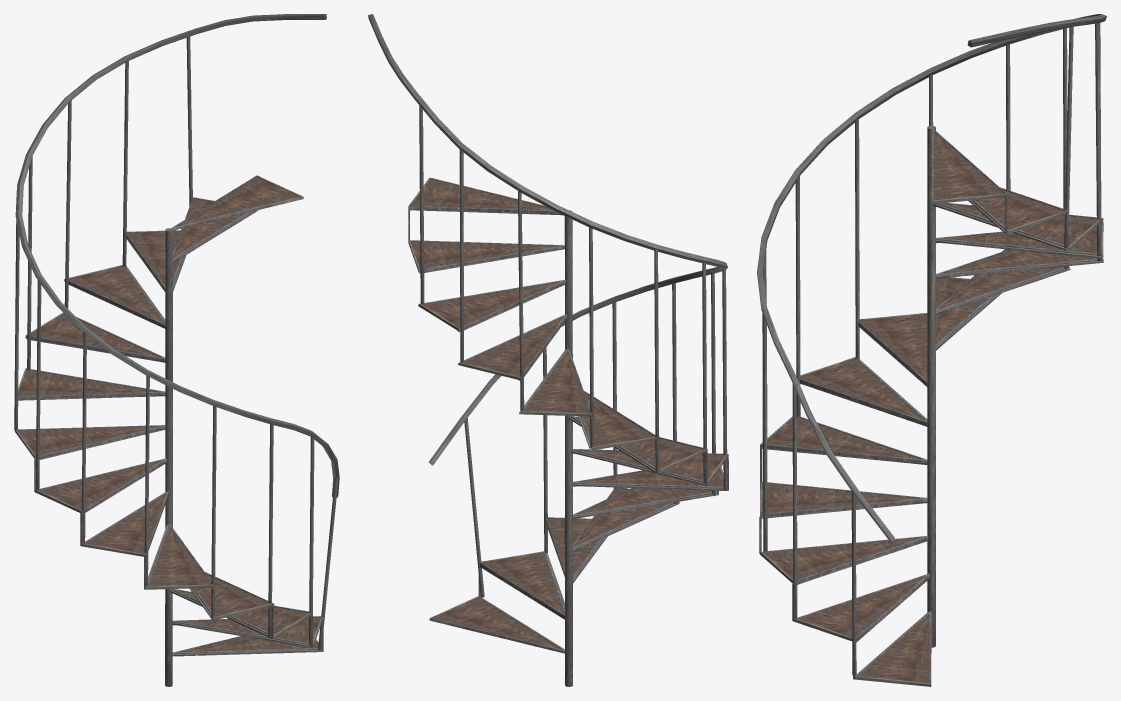
The model's file is uploads_files_2086085_Spiral+Stairs+1.fbx.
3 views of the same model, side by side, from view 1: azimuth 30°, elevation 25°; view 2: azimuth 150°, elevation 25°; view 3: azimuth 270°, elevation 25° (orthographic). The views are drawn at different scales.
Visible parts, largest first — view 1: Spiral_Stairs; view 2: Spiral_Stairs; view 3: Spiral_Stairs.
Part boxes in pixels (<box>): Spiral_Stairs: <box>14,14,339,686</box>; Spiral_Stairs: <box>368,14,728,686</box>; Spiral_Stairs: <box>757,14,1106,686</box>.
Bounding box in the file's own units: 231 × 439 × 199.
Materials: 2 (2 with a texture image).
